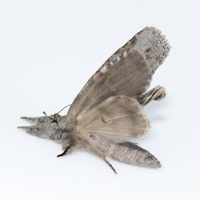insect: (18, 27, 169, 172)
